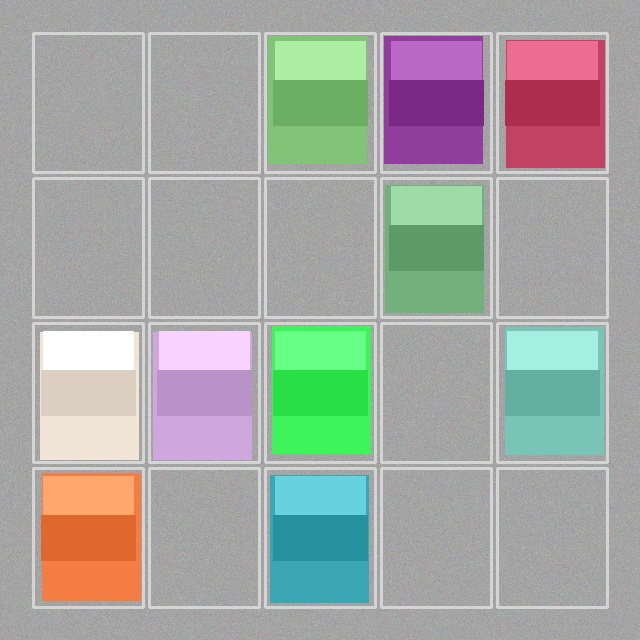space-empty: (35, 35, 141, 170), (151, 35, 257, 170), (35, 180, 141, 315), (151, 180, 257, 315), (267, 180, 373, 315), (499, 180, 605, 315), (383, 325, 489, 460), (151, 470, 257, 605), (383, 470, 489, 605), (499, 470, 605, 605)
space-occupied: (267, 35, 373, 170), (383, 35, 489, 170), (499, 35, 605, 170), (383, 180, 489, 315), (35, 325, 141, 460), (151, 325, 257, 460), (267, 325, 373, 460), (499, 325, 605, 460), (35, 470, 141, 605), (267, 470, 373, 605)
